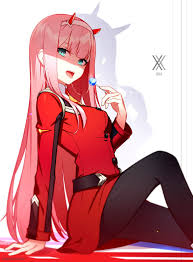zeroTwo: (29, 7, 101, 84)
